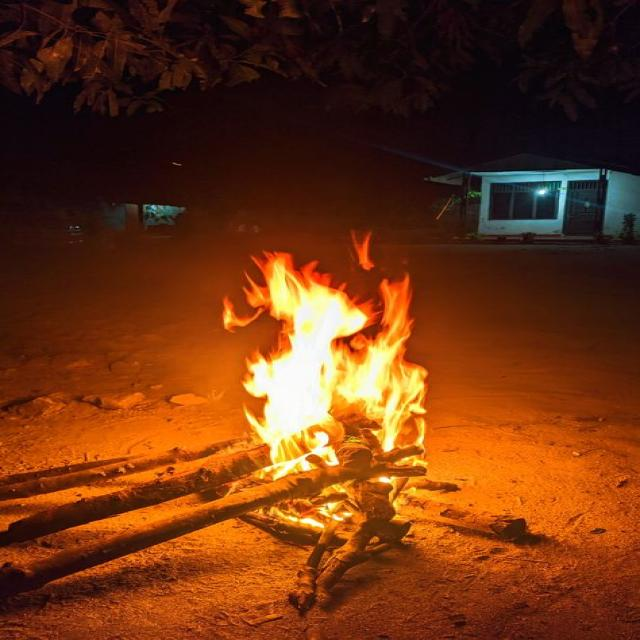Fire: (205, 234, 467, 536)
